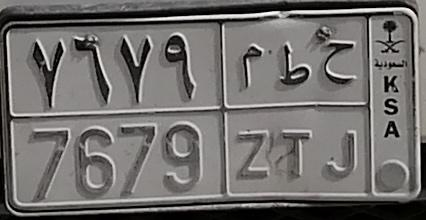6: (73, 35, 117, 196)
7: (29, 37, 72, 202), (119, 34, 157, 195)
9: (163, 31, 205, 193)
J: (324, 39, 360, 178)
T: (279, 42, 314, 178)
Z: (237, 41, 271, 180)
